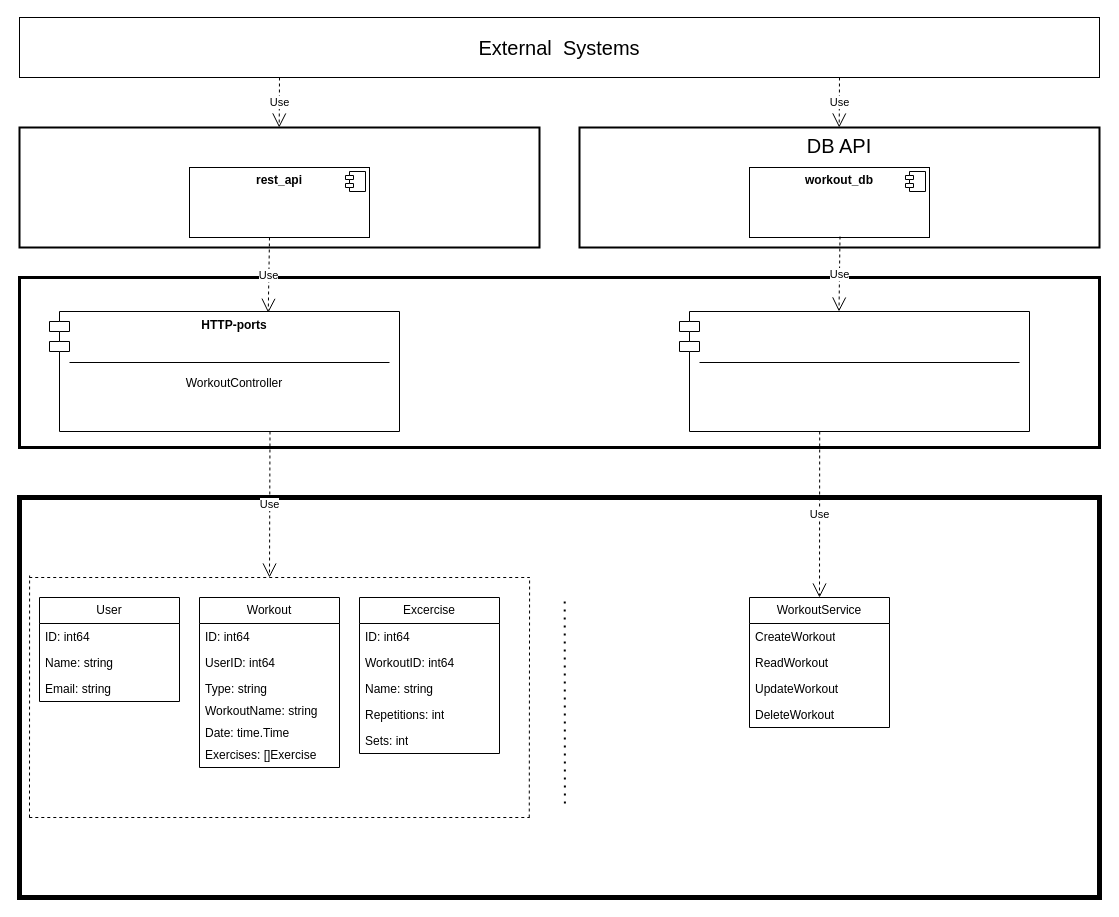
Image size: 1119x917. Some labels were removed from this diagram. Here are the shapes that lost their labels. From the top down, the box of each, then its label:
(18, 126, 540, 248): HTTP API
(18, 276, 1100, 448): PORTS (Interfaces)
(678, 310, 1030, 432): Repository-ports WorkoutRepository Interface
(16, 494, 1102, 900): CORE (Models & Services)
